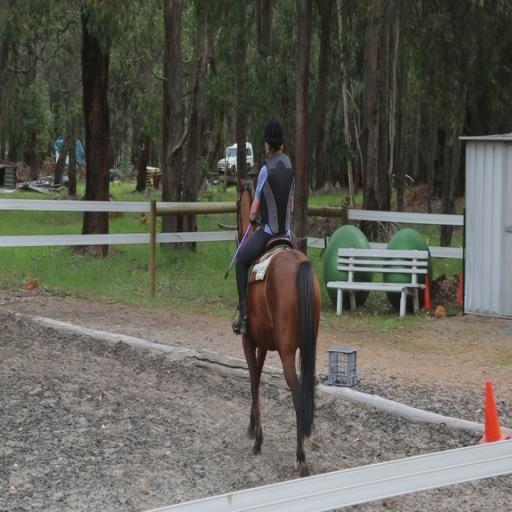horse: (233, 169, 322, 478)
